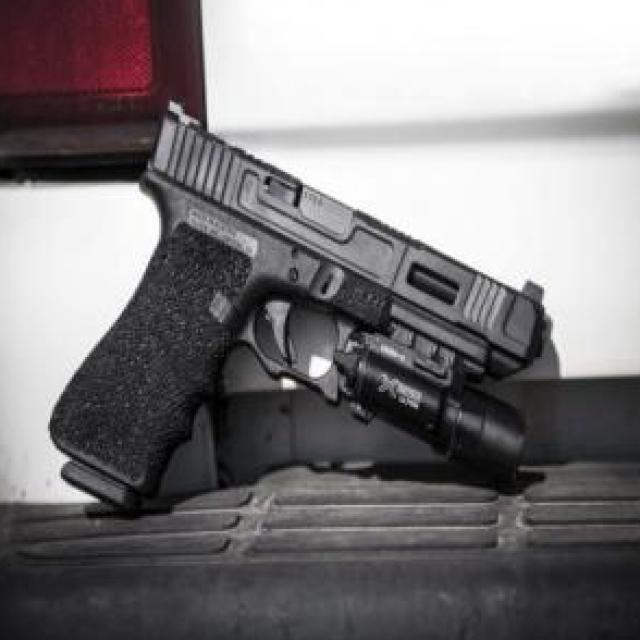pistol: (48, 87, 553, 520)
